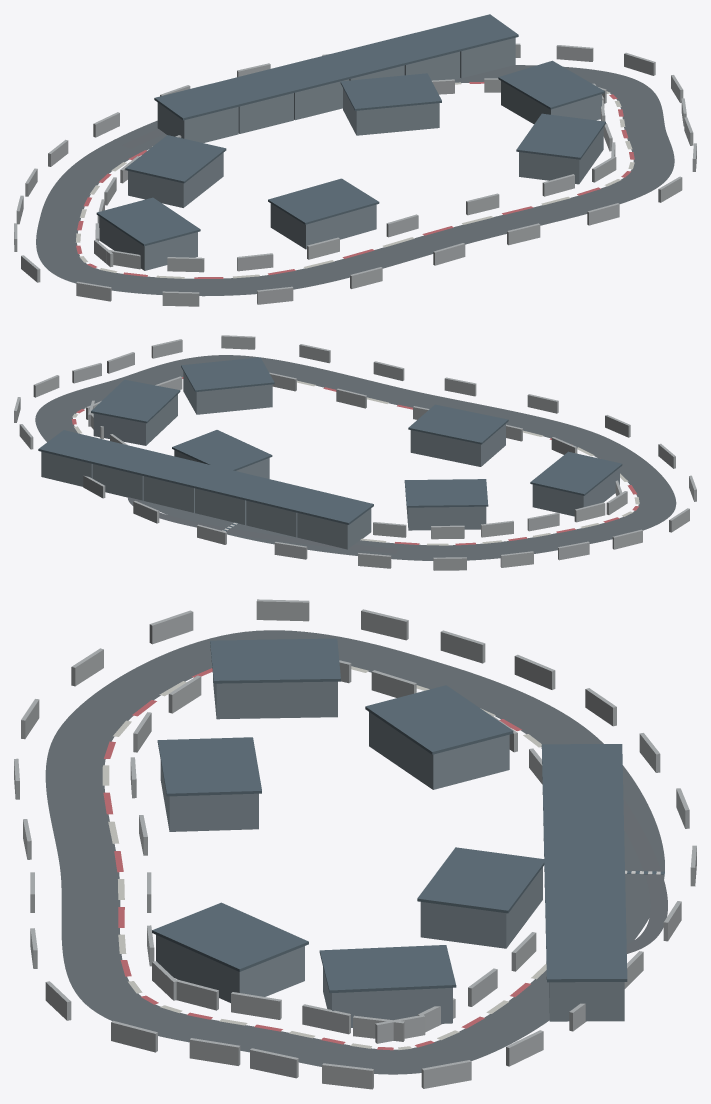
3 views of the same model, one above another, from view 1: azimuth 30°, elevation 25°; view 2: azimuth 150°, elevation 25°; view 3: azimuth 270°, elevation 25° (orthographic). The views are drawn at different scales.
Parts seen in each view (by area): view 1: asphalt, grandstand_roof_3, grandstand_roof_1, grandstand_roof_0, grandstand_roof_4, grandstand_roof_5, grandstand_roof_2, grandstand_3, grandstand_0, grandstand_5, grandstand_4, pit_building_0 (+27 smaller); view 2: asphalt, grandstand_roof_3, grandstand_roof_2, grandstand_roof_4, grandstand_roof_5, grandstand_roof_1, grandstand_roof_0, grandstand_3, grandstand_2, pit_building_0, grandstand_1, grandstand_4 (+37 smaller); view 3: asphalt, grandstand_roof_2, grandstand_roof_5, grandstand_roof_1, grandstand_roof_4, grandstand_roof_0, grandstand_roof_3, grandstand_5, grandstand_2, grandstand_4, grandstand_0, pit_roof_5 (+27 smaller).
Boxes of the visible parts, x1,y1,x2,y2 form: asphalt: [36, 65, 674, 296]; grandstand_roof_3: [268, 178, 379, 224]; grandstand_roof_1: [498, 60, 604, 109]; grandstand_roof_0: [340, 73, 441, 110]; grandstand_roof_4: [96, 197, 200, 246]; grandstand_roof_5: [125, 135, 226, 183]; grandstand_roof_2: [516, 113, 605, 159]; grandstand_3: [270, 203, 376, 249]; grandstand_0: [343, 88, 439, 135]; grandstand_5: [128, 153, 223, 207]; grandstand_4: [99, 216, 197, 270]; pit_building_0: [157, 102, 238, 142]; asphalt: [35, 355, 676, 560]; grandstand_roof_3: [408, 404, 508, 444]; grandstand_roof_2: [181, 357, 274, 391]; grandstand_roof_4: [530, 451, 622, 495]; grandstand_roof_5: [404, 479, 488, 507]; grandstand_roof_1: [91, 379, 180, 423]; grandstand_roof_0: [172, 430, 272, 470]; grandstand_3: [410, 424, 505, 466]; grandstand_2: [183, 371, 272, 414]; pit_building_0: [297, 508, 371, 549]; grandstand_1: [93, 394, 177, 445]; grandstand_4: [532, 468, 619, 516]; asphalt: [45, 630, 664, 1074]; grandstand_roof_2: [152, 902, 308, 971]; grandstand_roof_5: [365, 685, 513, 754]; grandstand_roof_1: [319, 945, 456, 993]; grandstand_roof_4: [210, 638, 340, 683]; grandstand_roof_0: [417, 847, 544, 913]; grandstand_roof_3: [157, 737, 261, 796]; grandstand_5: [369, 712, 509, 789]; grandstand_2: [156, 935, 304, 1002]; grandstand_4: [213, 677, 337, 719]; grandstand_0: [420, 867, 542, 948]; pit_roof_5: [546, 937, 627, 982].
Bounding box in the file's own units: 59.59 × 2.64 × 36.49.
